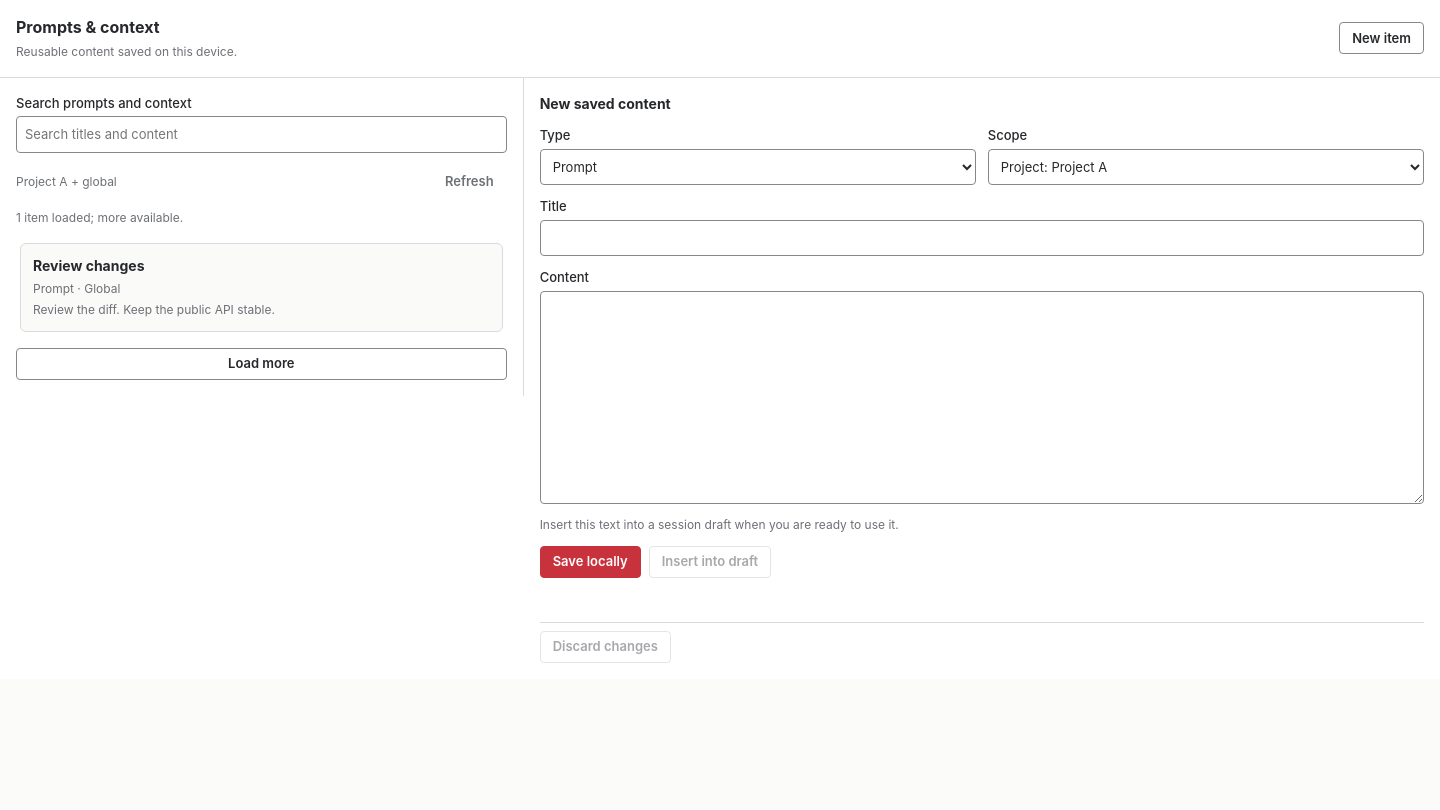
Test: KnowledgePanel › loads additional pages and searches all saved title/body content
Click the button "Load more" at {"x": 261, "y": 364}, box [16,348,507,380]
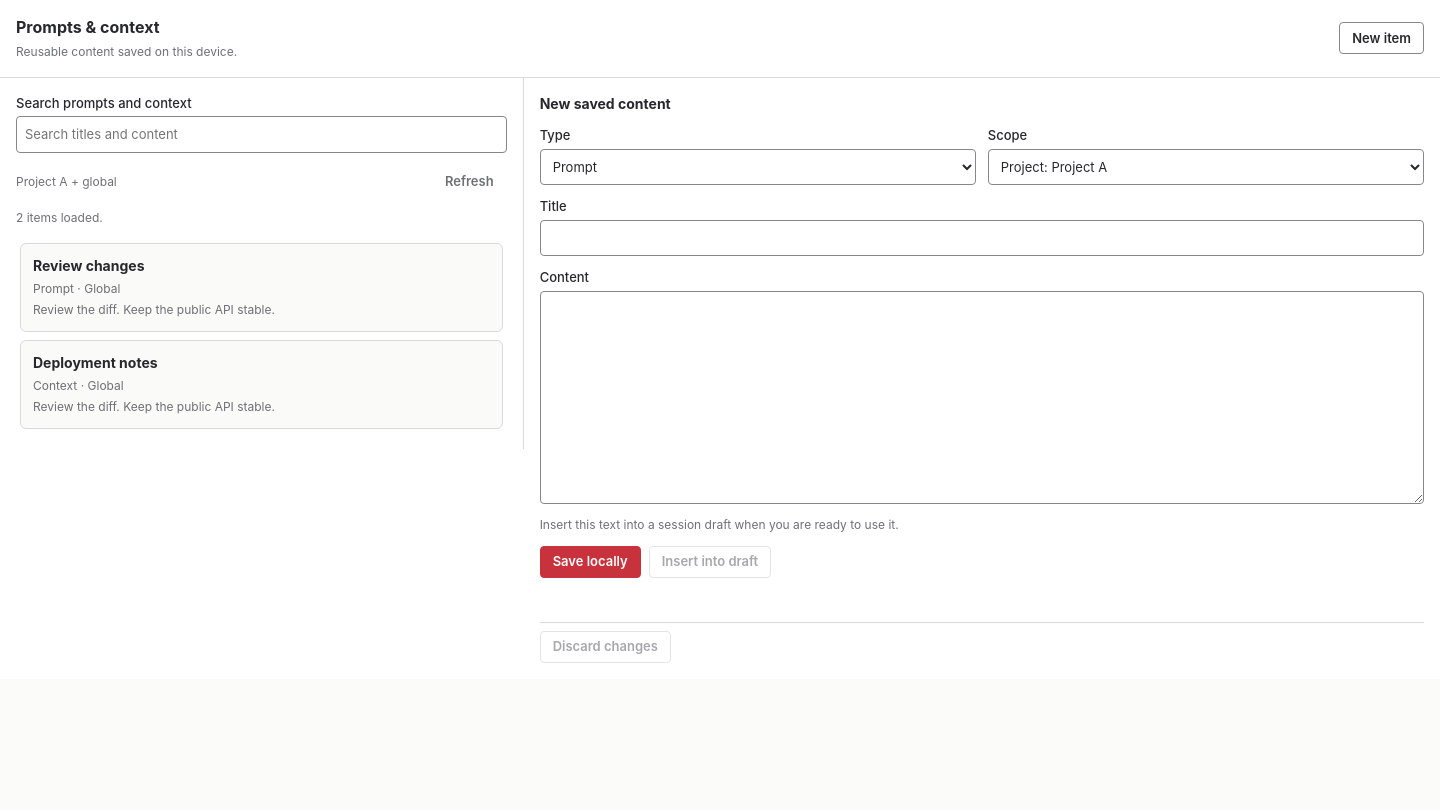
Expected: the button "Review changes" is shown, [20,243,503,332]
Result: the button "Deployment notes" is shown at [20,340,503,429]
Type "deployment" into the search field at {"x": 261, "y": 135}, box [16,116,507,153]
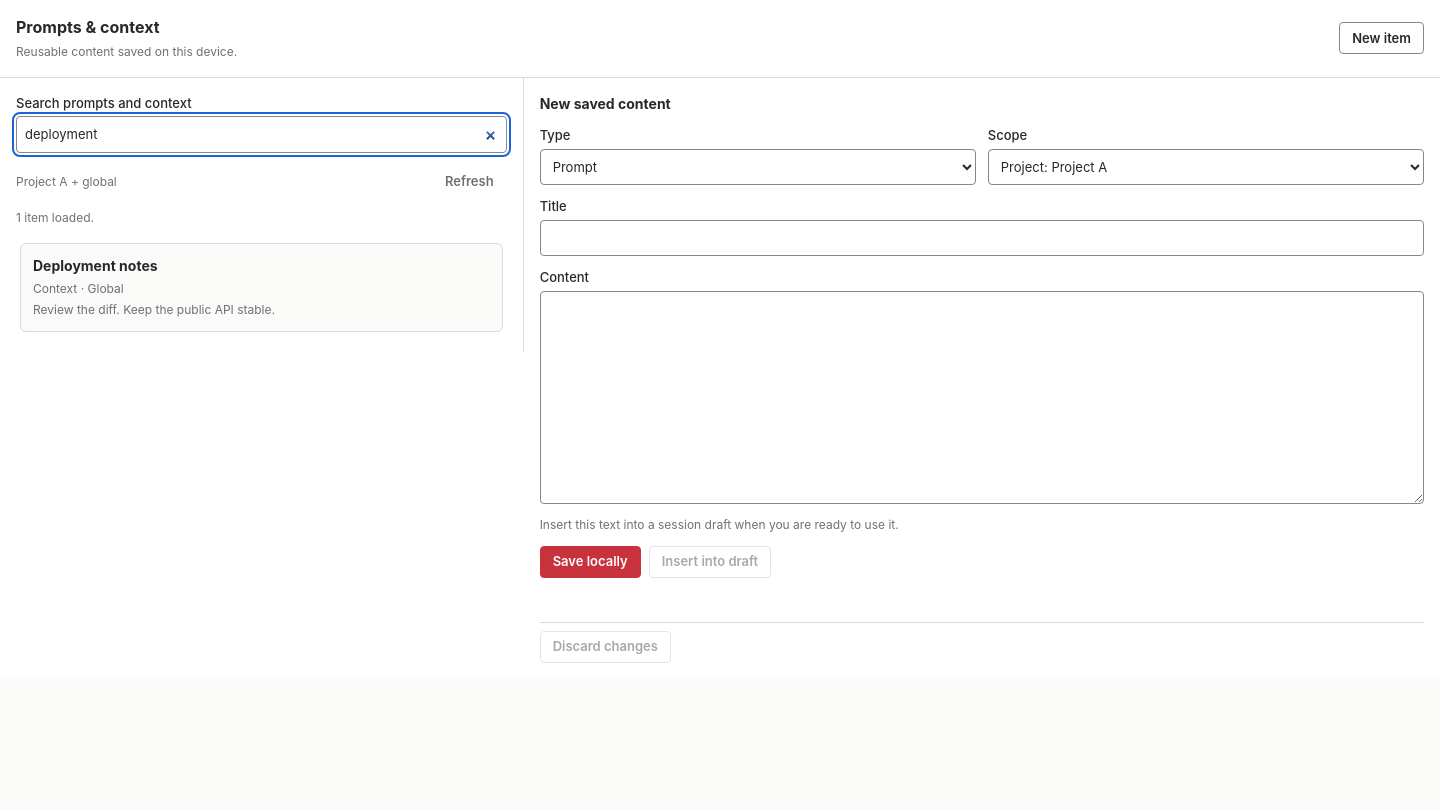
Result: the button "Deployment notes" is shown at [20,243,503,332]
Result: the button "Review changes" is gone
